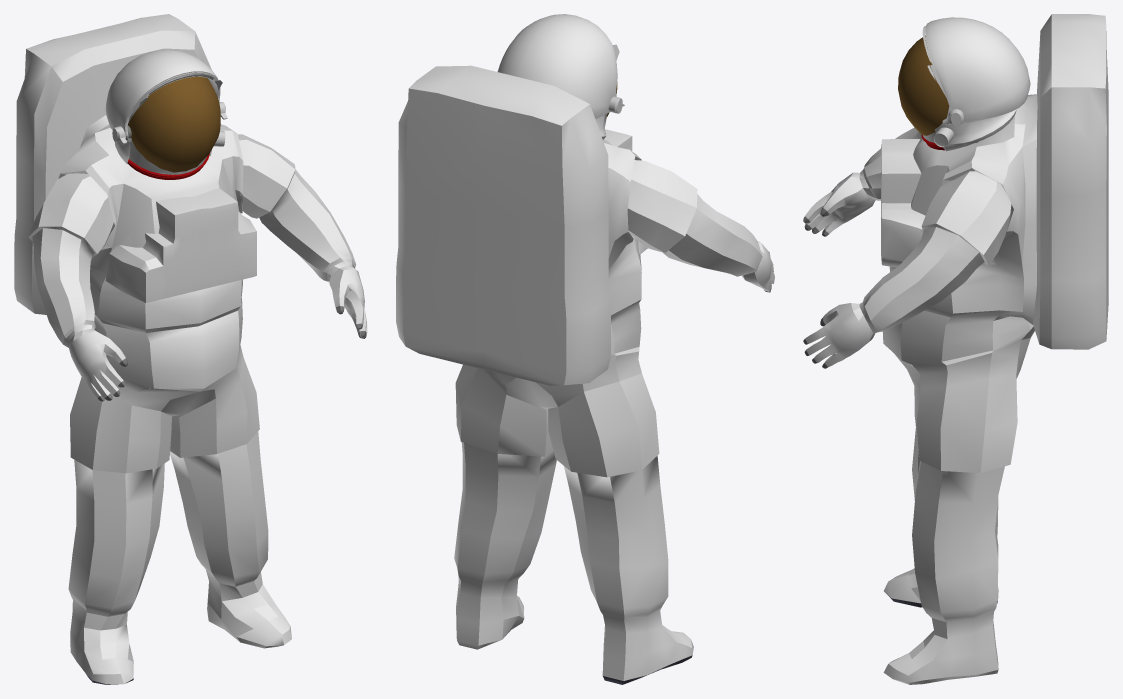
File: EVA.FBX
3 renders of one model, left to right at view 1: azimuth 30°, elevation 25°; view 2: azimuth 150°, elevation 25°; view 3: azimuth 270°, elevation 25°, orthographic. The views are drawn at different scales.
Visible parts, largest first — view 1: eva.layer1; view 2: eva.layer1; view 3: eva.layer1.
Boxes of the visible parts, x1,y1,x2,y2 form: eva.layer1: (14, 14, 367, 684); eva.layer1: (396, 14, 774, 684); eva.layer1: (803, 14, 1108, 684).
Size of the model in its own units: 37.97 by 32.89 by 72.75.
